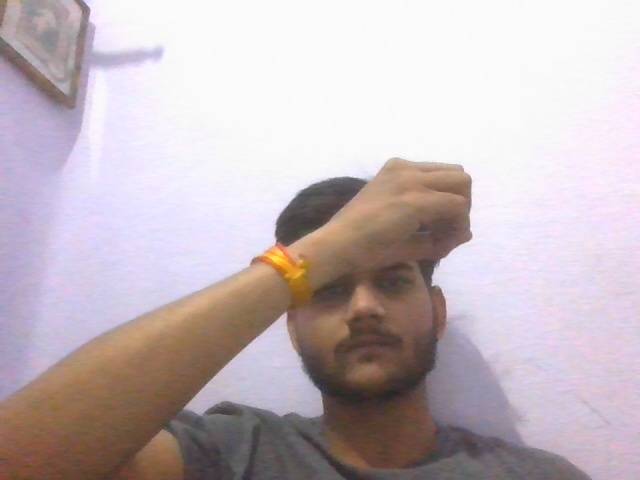no: (338, 141, 493, 306)
